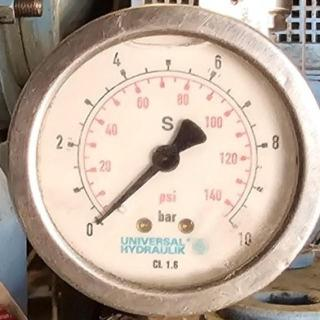gauge: (12, 0, 320, 318), (216, 206, 252, 243), (80, 205, 116, 239), (150, 143, 180, 173), (91, 213, 108, 227)
